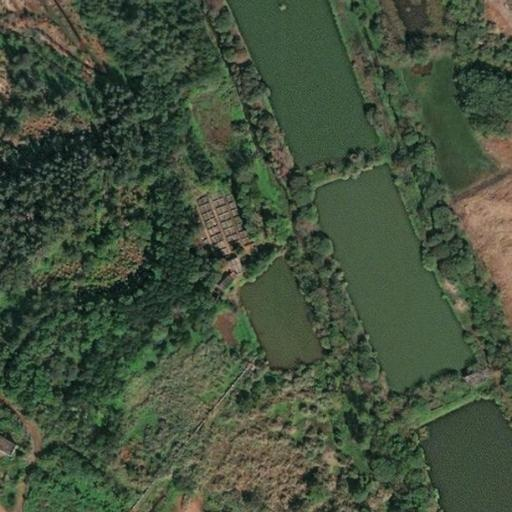building: (202, 270, 225, 289), (0, 432, 16, 458), (215, 256, 231, 275)
